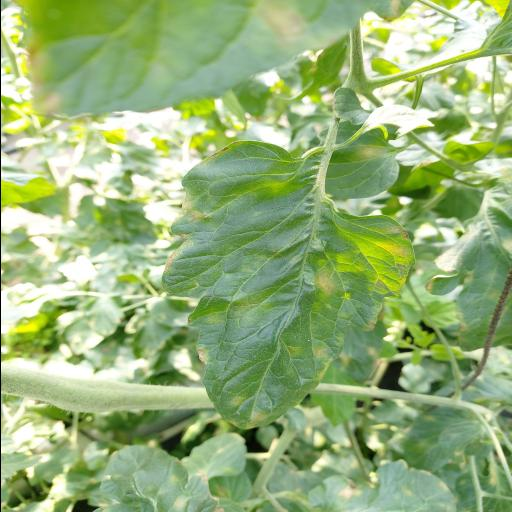Leaf Mold: (162, 138, 418, 430)
